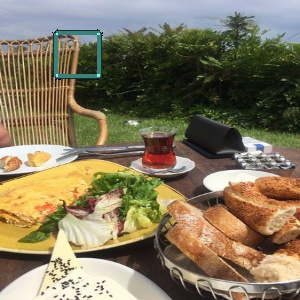square: (50, 28, 104, 79)
